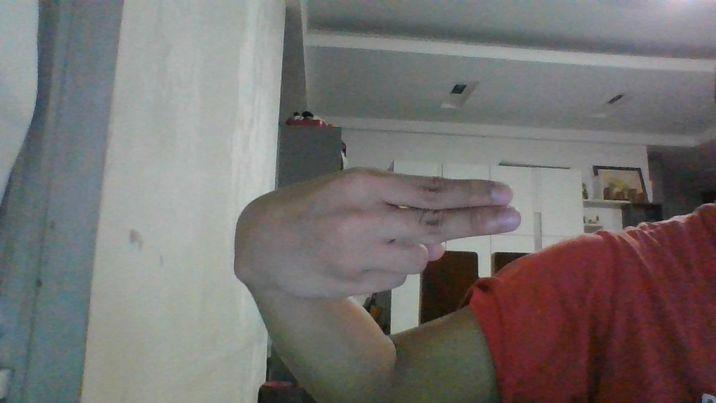h: (233, 166, 522, 299)
